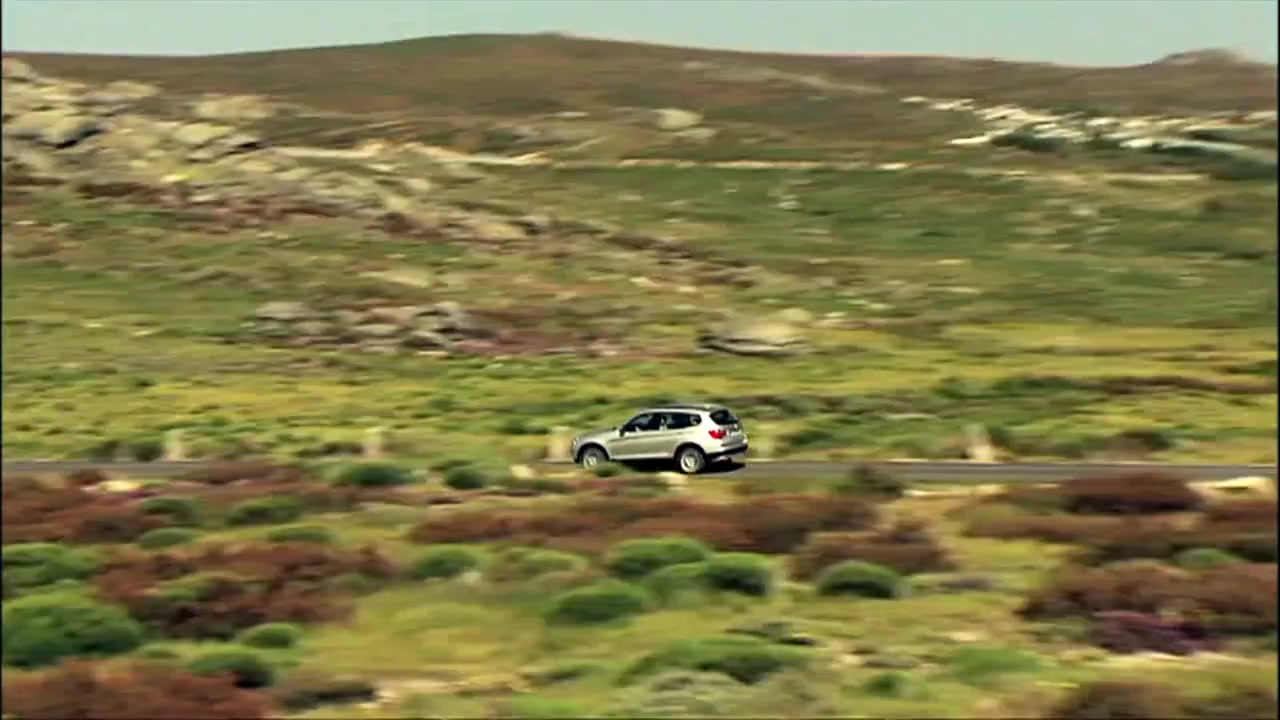car: (572, 401, 753, 477)
